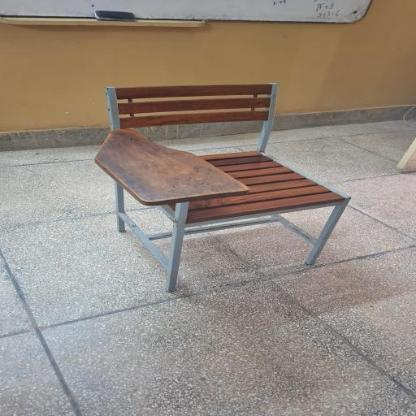chair: (92, 65, 356, 299)
